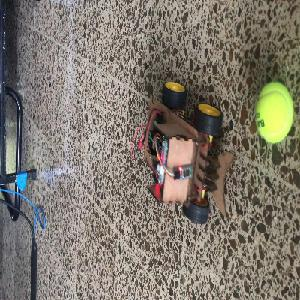Ball: (254, 80, 293, 144)
Robot: (144, 80, 234, 224)
